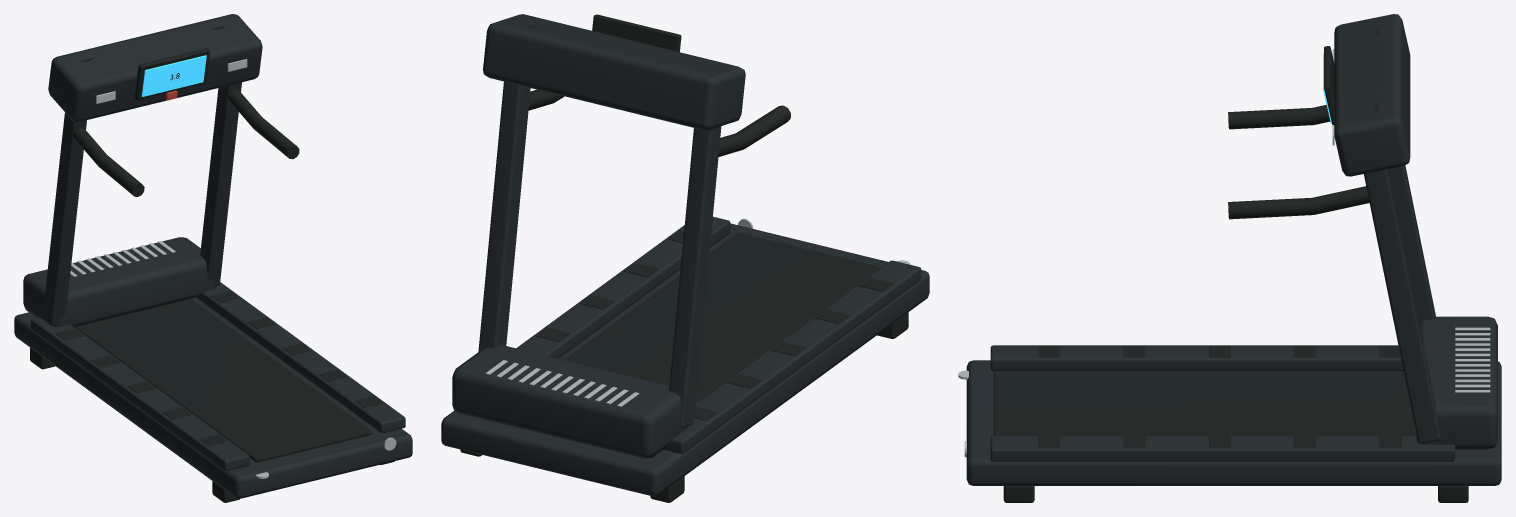
Rendered from folding-treadmill.glb.
The picture shows the model from 3 angles, left to right: view 1: azimuth 30°, elevation 25°; view 2: azimuth 150°, elevation 25°; view 3: azimuth 270°, elevation 25°; orthographic projection. The views are drawn at different scales.
Visible parts, largest first — view 1: folding-treadmill authored assembly; view 2: folding-treadmill authored assembly; view 3: folding-treadmill authored assembly.
Boxes of the visible parts, x1,y1,x2,y2 form: folding-treadmill authored assembly: (14, 14, 412, 502); folding-treadmill authored assembly: (441, 14, 929, 502); folding-treadmill authored assembly: (958, 14, 1501, 502).
Size of the model in its own units: 0.9 by 1.5 by 1.9.
